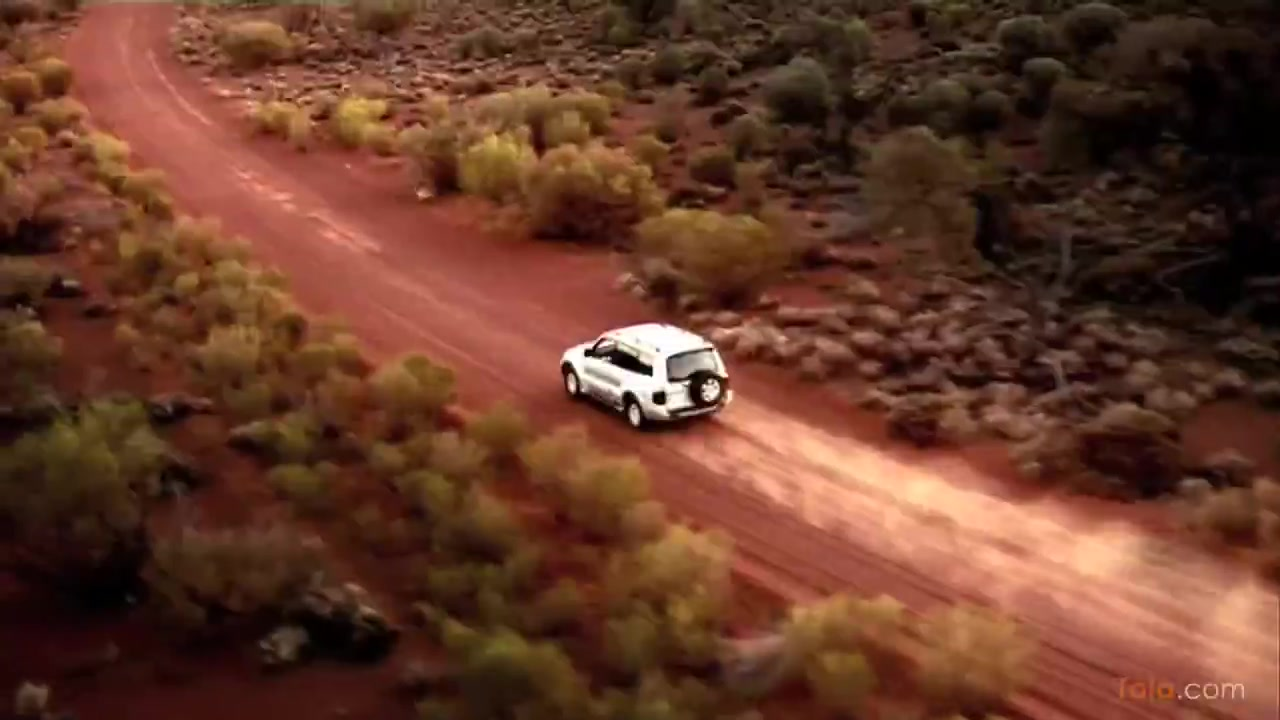car: (558, 321, 734, 435)
